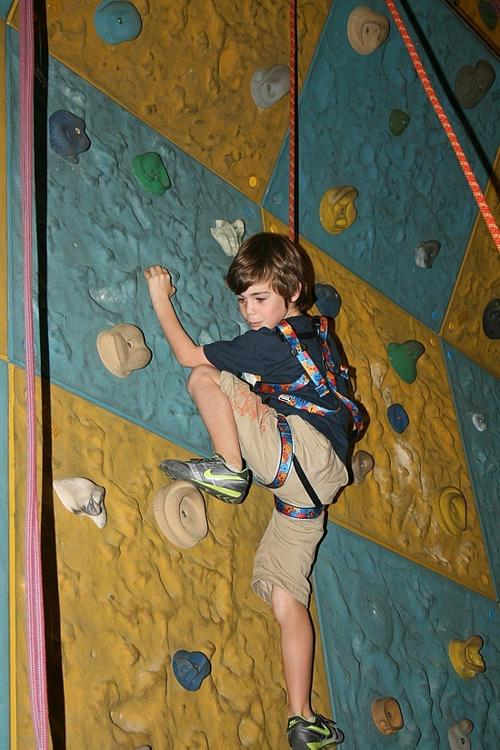person: (145, 229, 366, 750)
